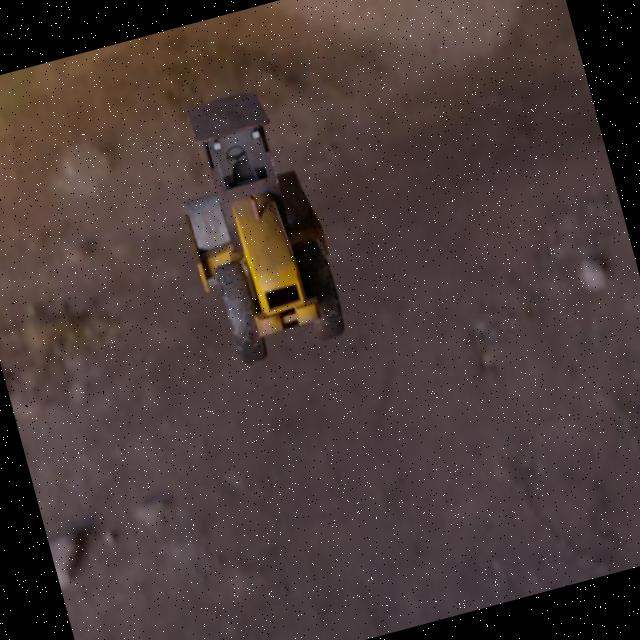Roller: (156, 80, 350, 370)
